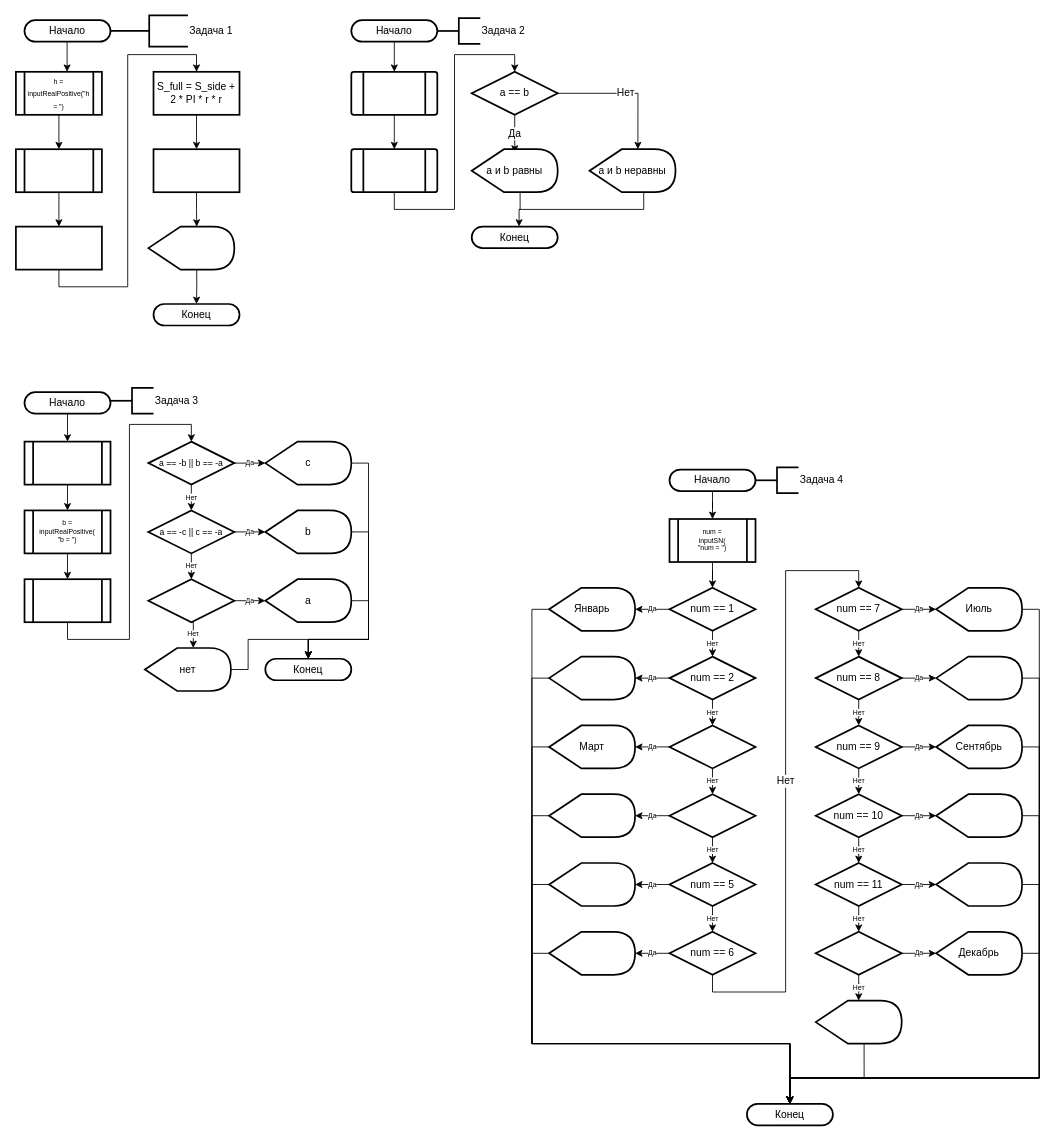
Some shapes in this 1061 by 1141 pixel diagram are drawn without their labels. Each missing label, with the centre of its shape:
a = inputDoublePositive( "a = "): [67,462]
a = inputReal("a = "): [394,93]
b = inputReal("b = "): [394,170]
buffer: [191,247]
c = inputRealPositive( "c = "): [67,600]
c == -b || b == -c: [191,600]
num == 12: [858,953]
num == 3: [712,746]
num == 4: [712,815]
r = inputRealPositive("r = "): [58,170]
S_side = h * 2 * PI * r: [58,247]
V = PI * r * r * h: [196,170]
Август: [979,677]
Апрель: [592,815]
Июнь: [592,953]
Май: [592,884]
Ноябрь: [979,884]
Октябрь: [979,815]
Такого номера нет: [858,1021]
Февраль: [592,677]
